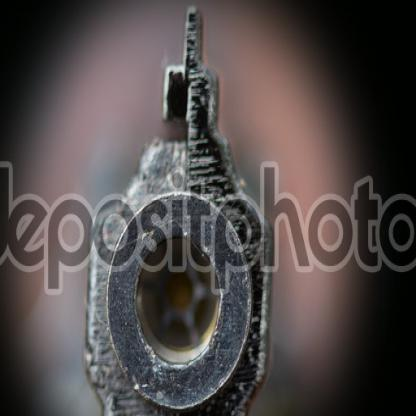gun: (78, 0, 279, 415)
